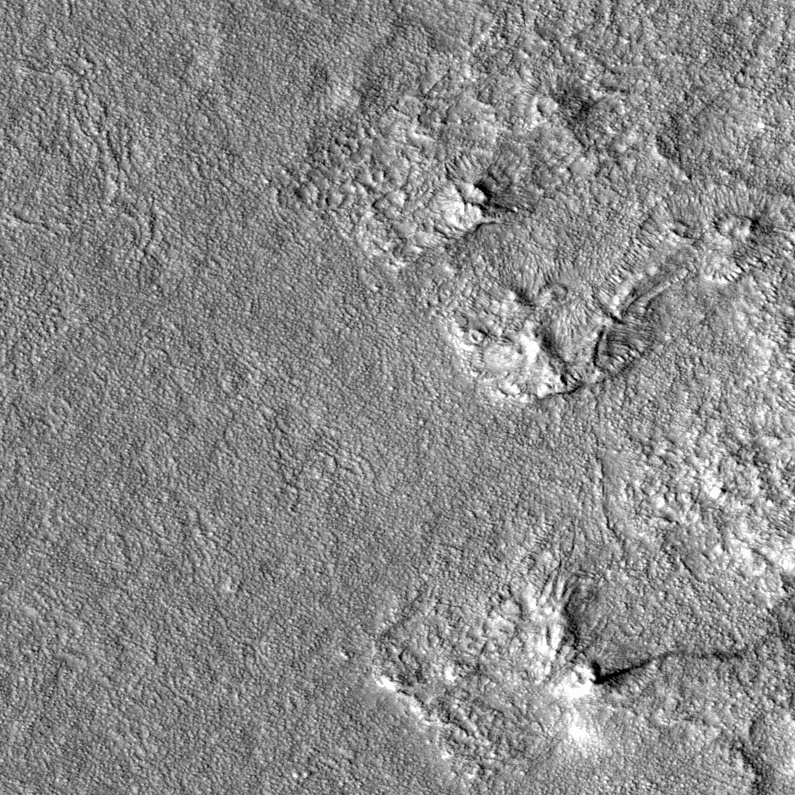dust_devil: (550, 644, 752, 702)
